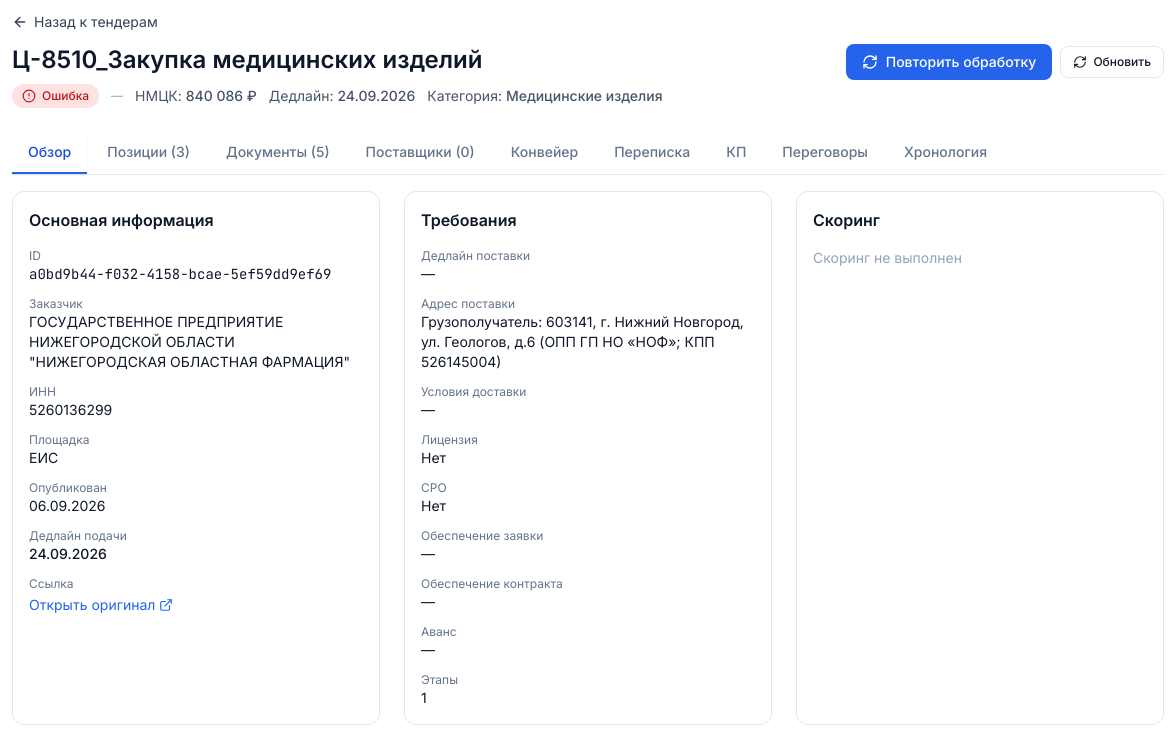
Scenario: TenderDetailPage — позиции и документы (реальный ответ API) › вкладка «Документы» показывает все файлы закупки
Click the tab "Документы (5)" at (278, 153), box [210,132,346,174]
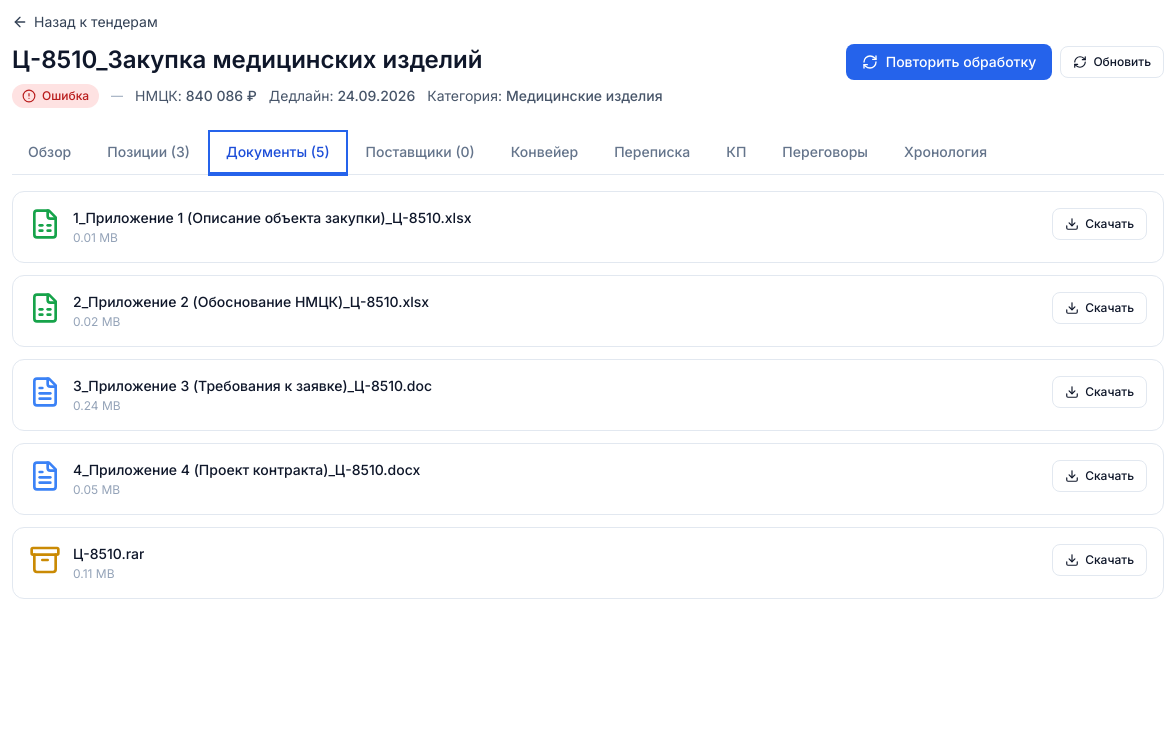
Now the text "1_Приложение 1 (Описание объекта закупки)_Ц-8510.xlsx" is shown, box [73,208,472,228]
Now the text "2_Приложение 2 (Обоснование НМЦК)_Ц-8510.xlsx" is shown, box [73,292,429,312]
Now the text "3_Приложение 3 (Требования к заявке)_Ц-8510.doc" is shown, box [73,376,432,396]
